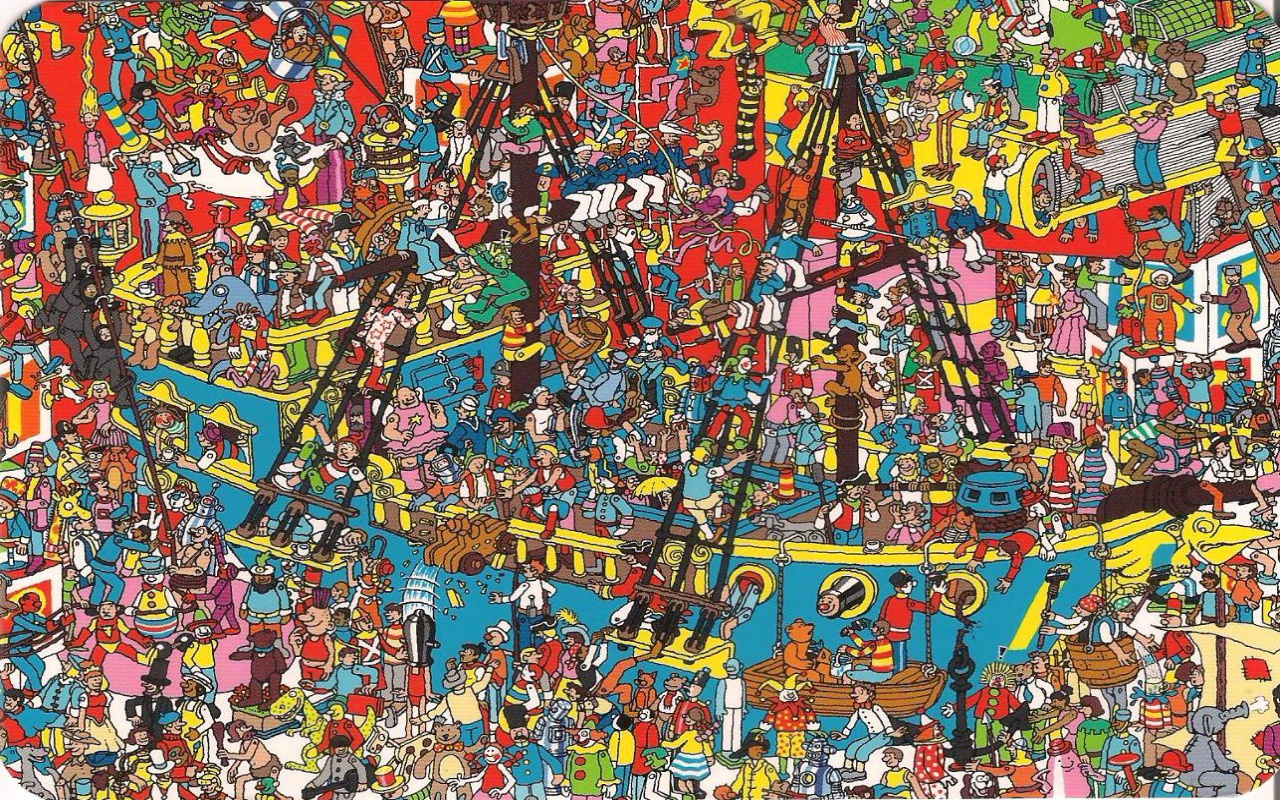waldo: (81, 442, 108, 481)
